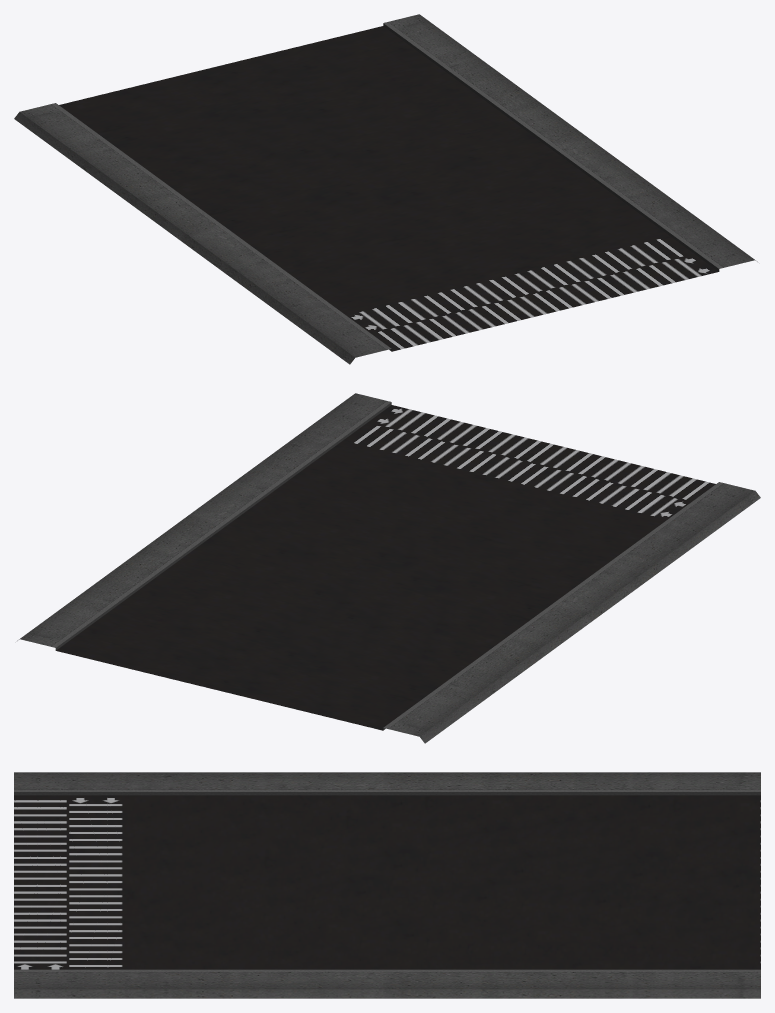
File: RJs_Road 4+5 Basic Node.fbx
3 views of the same model, one above another, from view 1: azimuth 30°, elevation 25°; view 2: azimuth 150°, elevation 25°; view 3: azimuth 270°, elevation 25° (orthographic). The views are drawn at different scales.
Visible parts, largest first — view 1: plane; view 2: plane; view 3: plane.
Boxes of the visible parts, left/top/right/bottom form: plane: left=14, top=14, right=757, bottom=364; plane: left=17, top=393, right=760, bottom=743; plane: left=14, top=772, right=760, bottom=998.
Bounding box in the file's own units: 4520 × 60.1 × 6400.
